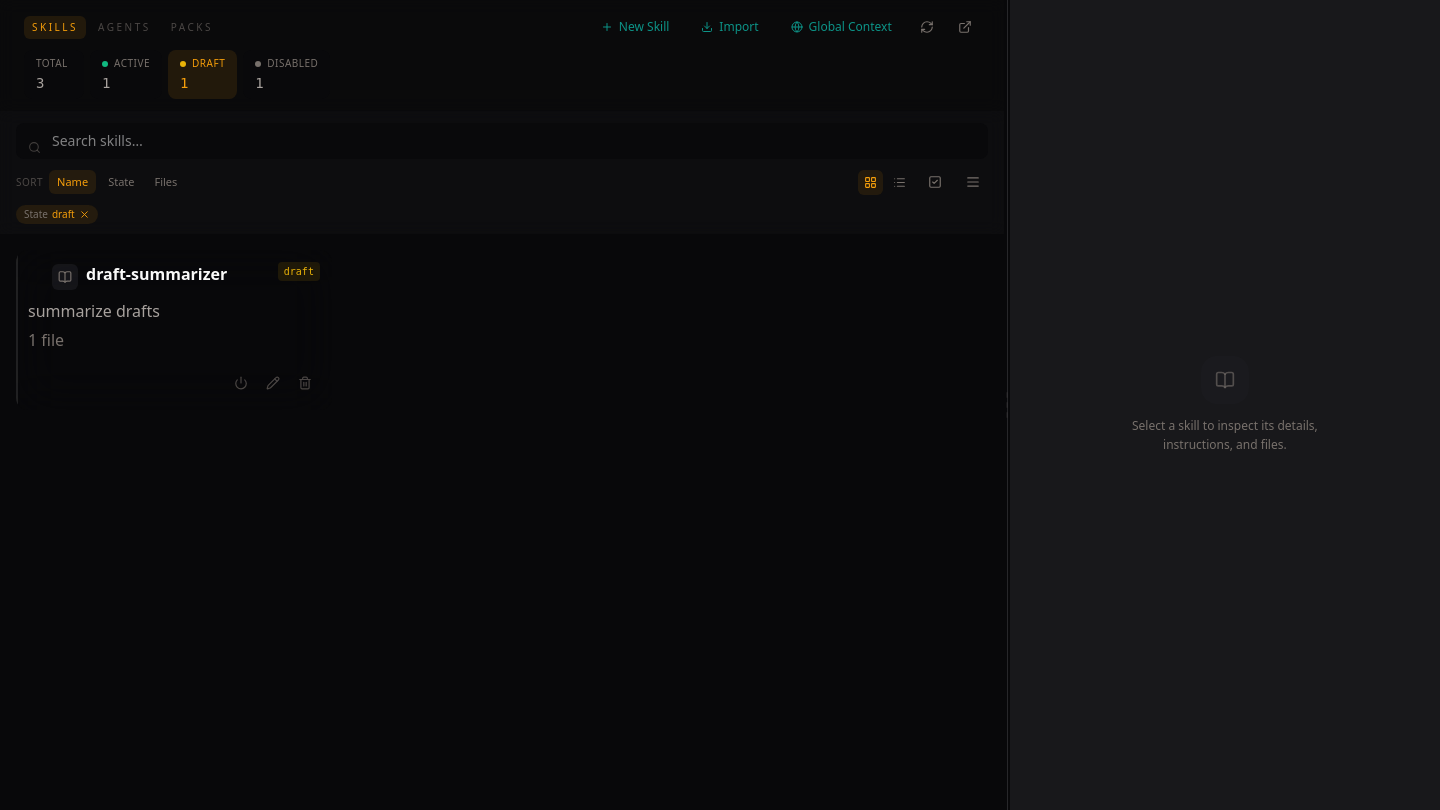
Test: LibraryWorkspace › KPI summary header › clears the filter when Total is clicked (counts stay search-aware, not tab-aware)
// Counts come from the unfiltered search results, so Total is still 3.
Click the button with aria-label "Total (3)" at {"x": 54, "y": 74}, box [24,50,84,99]
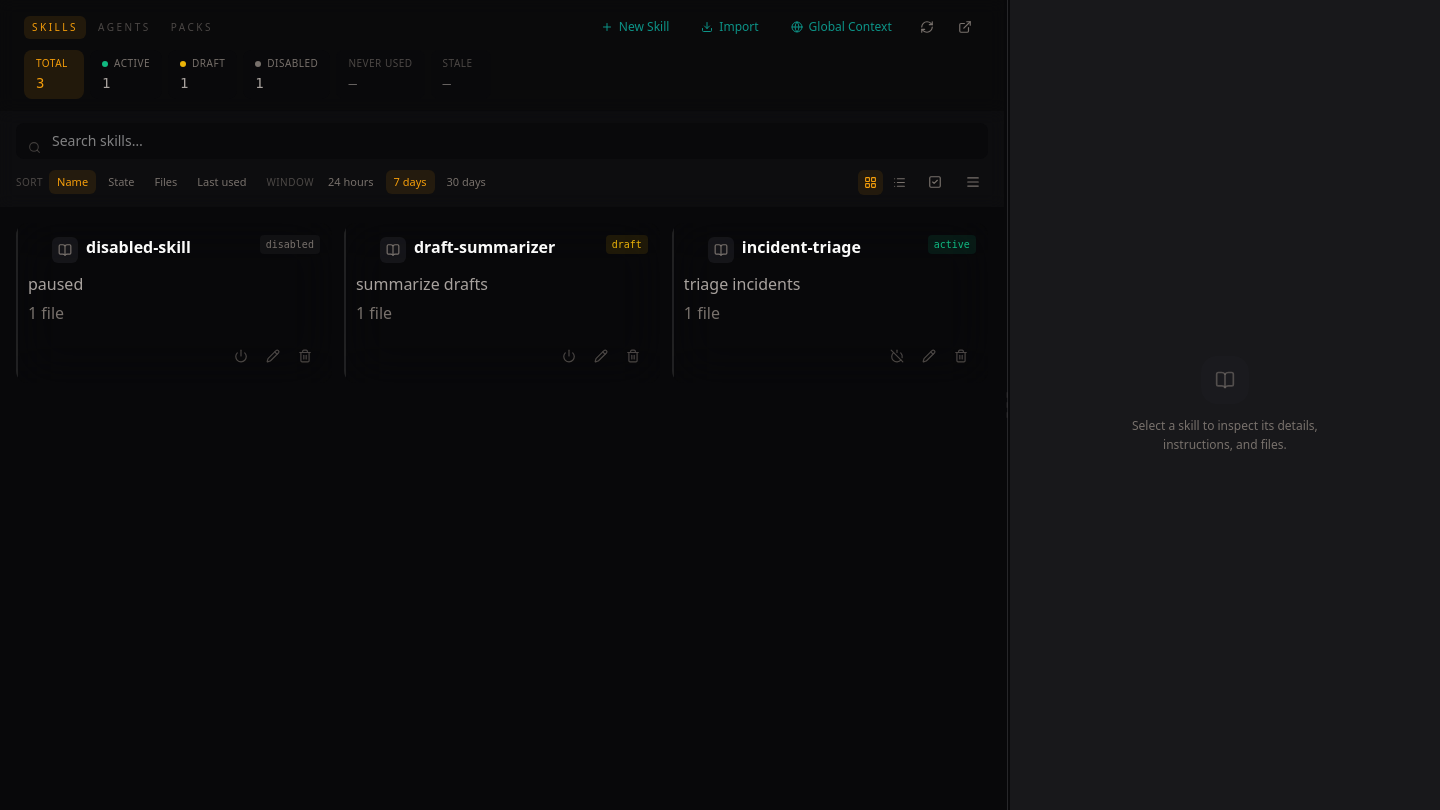
Expected: the text "incident-triage" is shown, [742,236,861,258]
